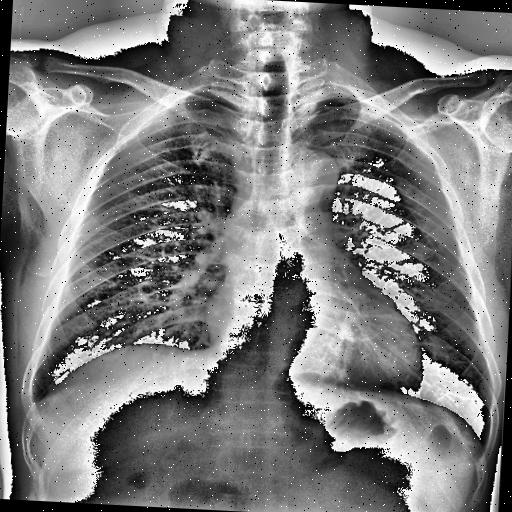0- Aortic enlargement: (286, 149, 341, 213), (290, 150, 341, 190)
10- Pleural effusion: (20, 385, 50, 414)
11- Pleural thickening: (20, 385, 50, 414), (28, 394, 48, 422)
3- Cardiomegaly: (201, 288, 428, 394)
